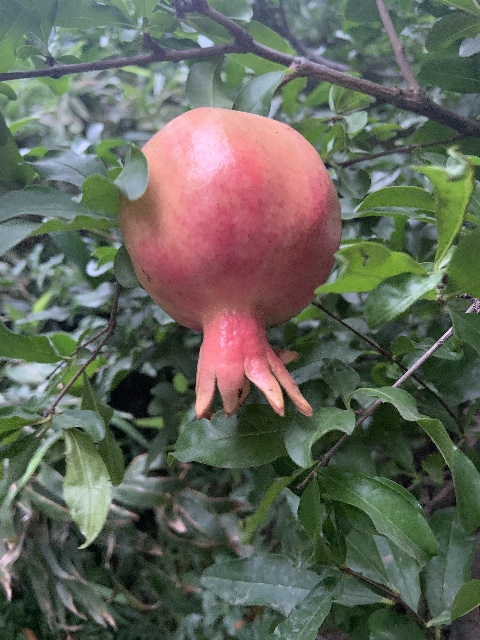ripe: (119, 108, 342, 422)
